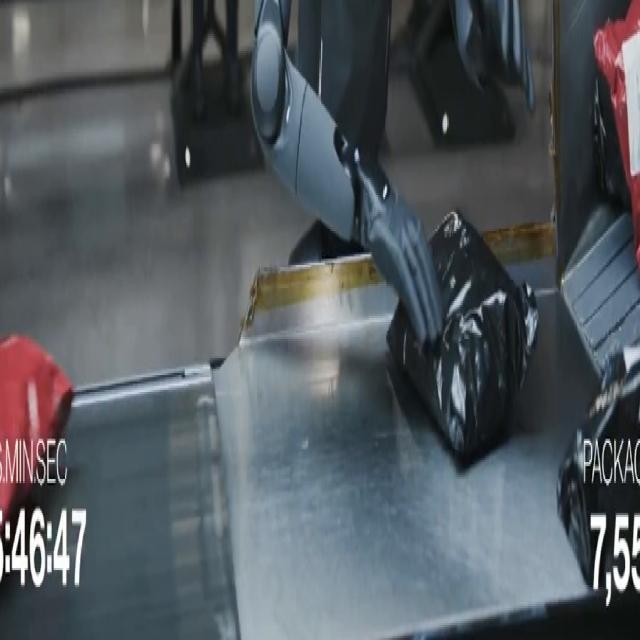package: (388, 212, 538, 464), (558, 348, 639, 587), (0, 335, 73, 521), (594, 0, 639, 267), (593, 73, 631, 214)
